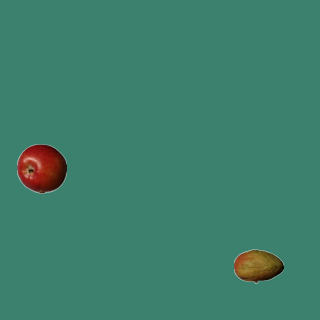Apple Braeburn: (16, 143, 66, 193)
Papaya: (233, 241, 283, 291)
